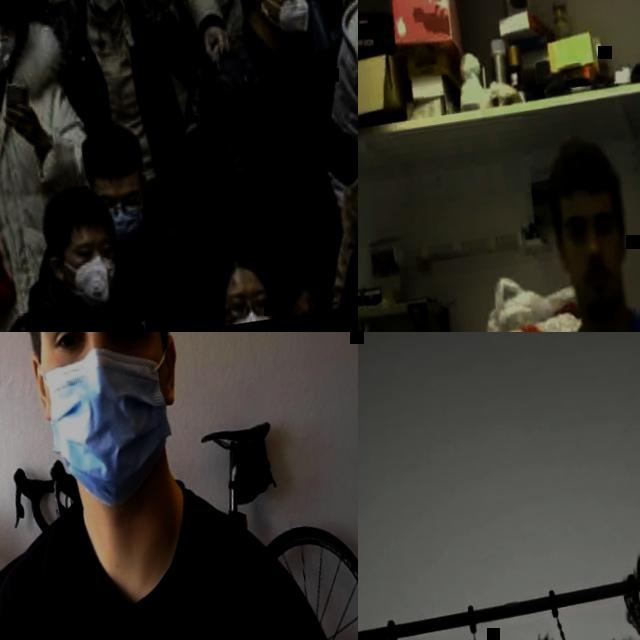Mask: (37, 342, 190, 519), (59, 254, 126, 313), (107, 196, 152, 243), (271, 0, 315, 43), (0, 35, 22, 76), (80, 0, 129, 18)
NO-Hardhat: (543, 135, 624, 212), (34, 184, 114, 247), (79, 119, 149, 186), (210, 242, 269, 291)
NO-Mask: (576, 261, 629, 314)
NO-Safety Vest: (15, 482, 302, 640), (219, 39, 345, 281), (0, 71, 88, 322), (116, 220, 198, 332), (15, 299, 156, 332), (344, 183, 358, 240)
Person: (0, 332, 358, 640), (176, 0, 358, 324), (36, 0, 231, 229), (0, 0, 120, 332), (482, 100, 640, 332), (74, 110, 218, 332), (0, 174, 184, 332), (11, 0, 227, 133), (168, 230, 318, 332), (294, 75, 358, 309), (291, 0, 358, 218), (304, 116, 358, 308)
